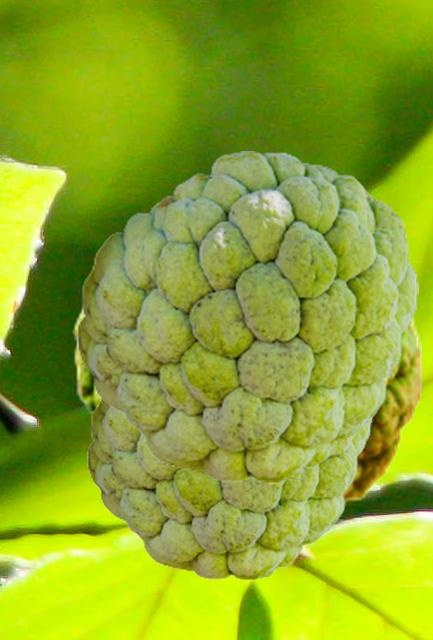atis: (77, 151, 417, 482), (72, 303, 420, 537), (87, 398, 370, 579)
